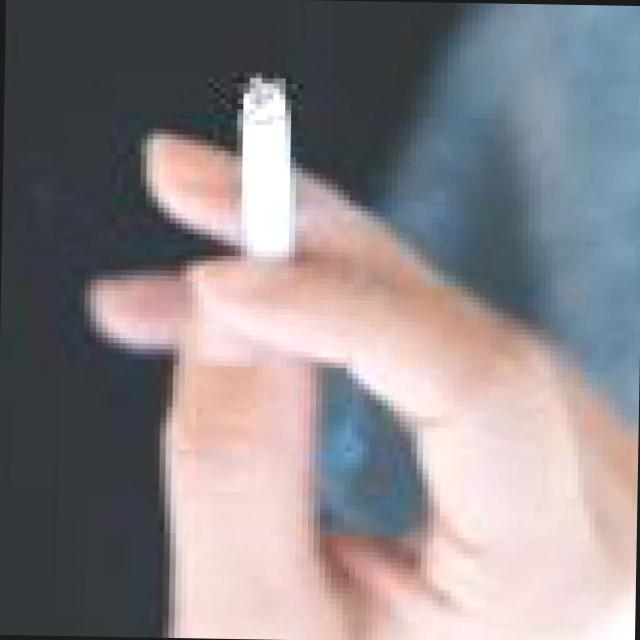smoke: (228, 67, 315, 314)
